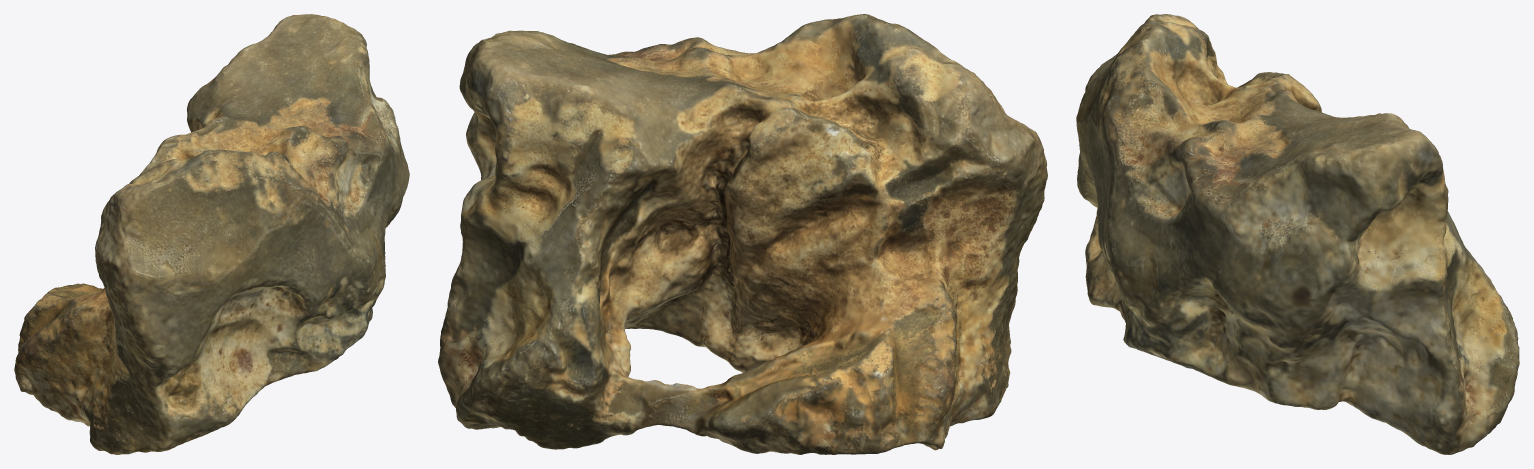
The model's file is goldrock.glb.
The picture shows the model from 3 angles, left to right: view 1: azimuth 30°, elevation 25°; view 2: azimuth 150°, elevation 25°; view 3: azimuth 270°, elevation 25°; orthographic projection. The views are drawn at different scales.
Parts seen in each view (by area): view 1: Object_2, Object_4, Object_5; view 2: Object_4, Object_2, Object_5, Object_3; view 3: Object_4, Object_2, Object_5, Object_3.
Boxes of the visible parts, left/top/right/bottom form: Object_2: left=18, top=83, right=390, bottom=454; Object_4: left=14, top=14, right=409, bottom=425; Object_5: left=15, top=53, right=402, bottom=420; Object_4: left=448, top=25, right=1047, bottom=449; Object_2: left=438, top=78, right=1037, bottom=454; Object_5: left=563, top=14, right=1046, bottom=448; Object_3: left=468, top=97, right=728, bottom=438; Object_4: left=1100, top=14, right=1519, bottom=454; Object_2: left=1076, top=58, right=1498, bottom=441; Object_5: left=1094, top=15, right=1380, bottom=366; Object_3: left=1121, top=162, right=1502, bottom=434.
Size of the model in its own units: 2.84 by 2.09 by 2.57.
2 materials, 2 textured.
